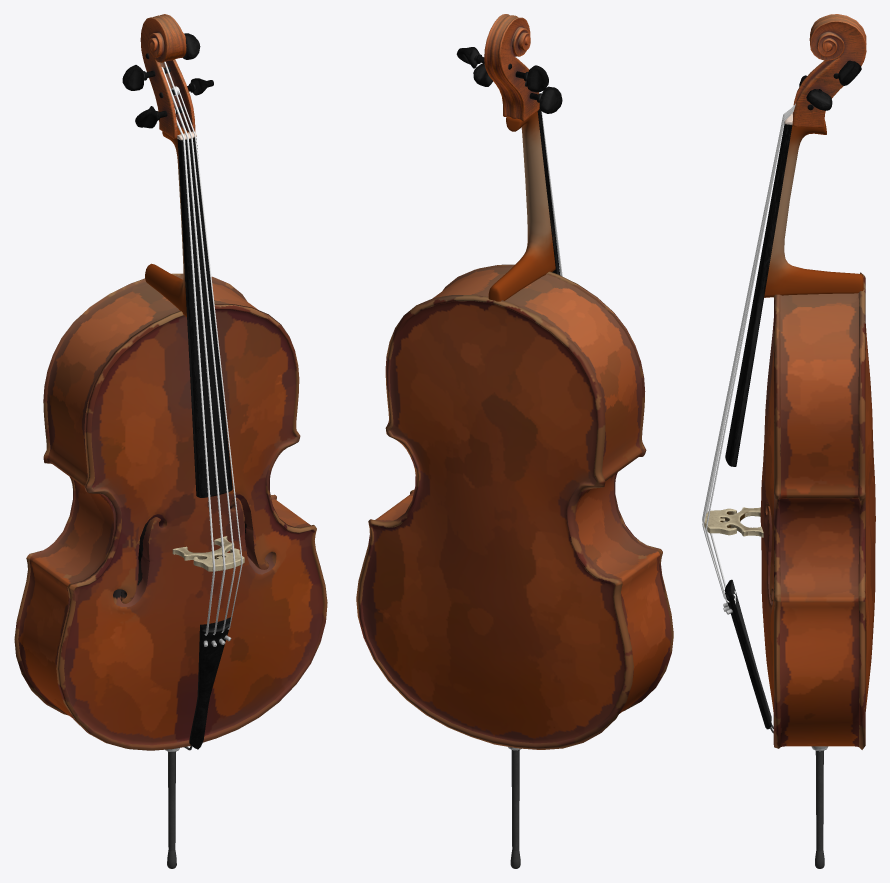
Rendered from cello.fbx.
The picture shows the model from 3 angles, left to right: view 1: azimuth 30°, elevation 25°; view 2: azimuth 150°, elevation 25°; view 3: azimuth 270°, elevation 25°; orthographic projection.
Parts seen in each view (by area): view 1: cello; view 2: cello; view 3: cello.
Part boxes in pixels (x1,y1,x2,y2): cello: (14,14,327,868); cello: (356,14,673,868); cello: (702,14,875,868).
Size of the model in its own units: 0.4762 by 1.4 by 0.2598.
